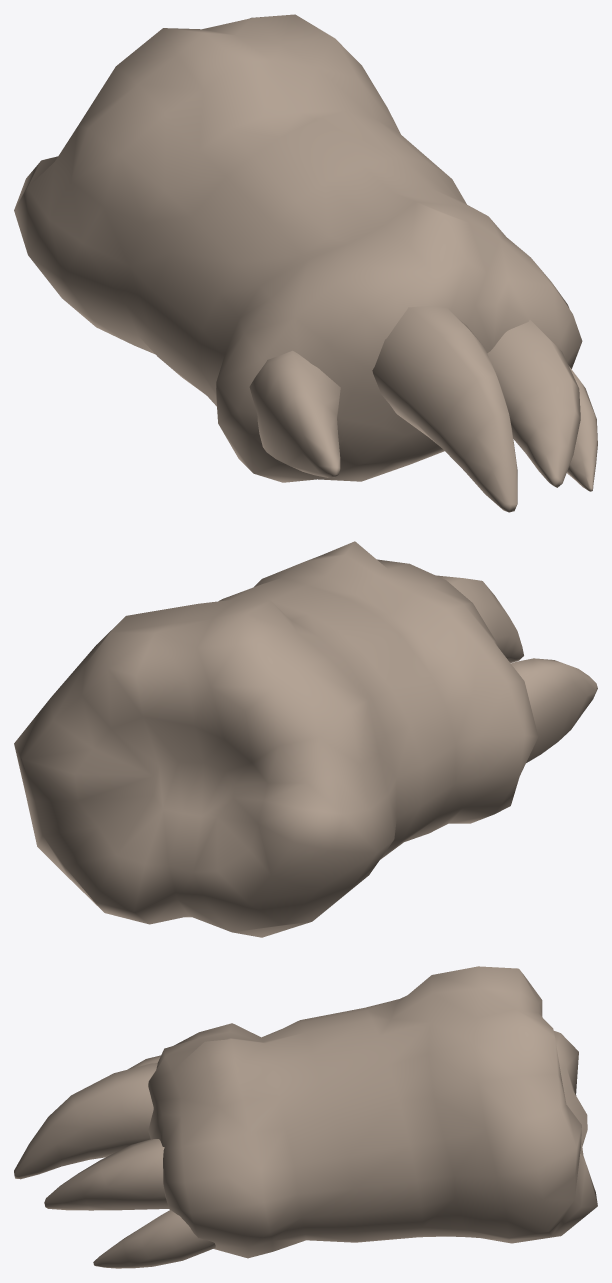
File: separatedPieces09_beastHand.fbx
The picture shows the model from 3 angles, top to bottom: view 1: azimuth 30°, elevation 25°; view 2: azimuth 150°, elevation 25°; view 3: azimuth 270°, elevation 25°; orthographic projection. The views are drawn at different scales.
Visible parts, largest first — view 1: beastHand_LOD0; view 2: beastHand_LOD0; view 3: beastHand_LOD0.
Part boxes in pixels (x1,y1,x2,y2): beastHand_LOD0: (14, 14, 597, 512); beastHand_LOD0: (14, 541, 597, 937); beastHand_LOD0: (14, 966, 597, 1268).
Size of the model in its own units: 33.46 by 28.09 by 59.46.
